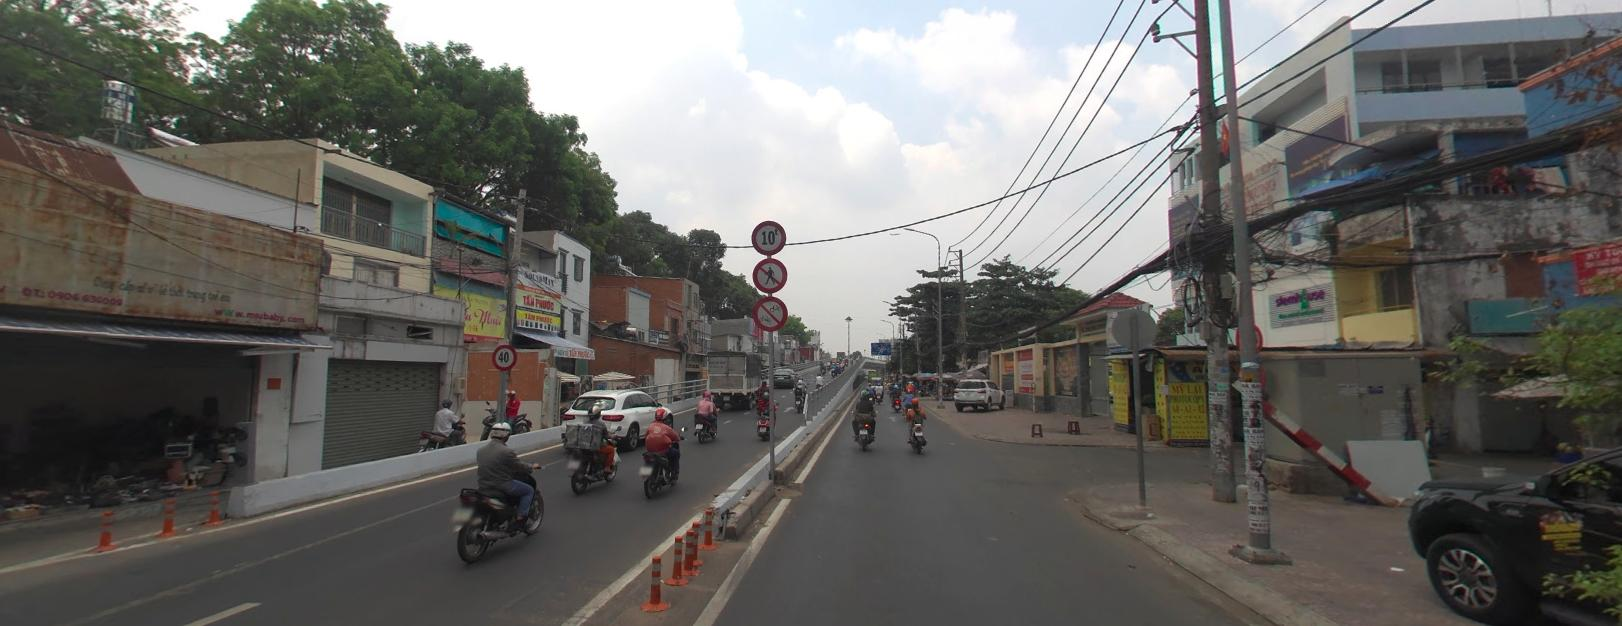Cam con lai: (752, 257, 787, 291), (751, 219, 785, 254), (752, 296, 786, 329), (1234, 321, 1261, 354), (1237, 361, 1264, 390)
Gioi han toc do: (491, 342, 517, 368)
